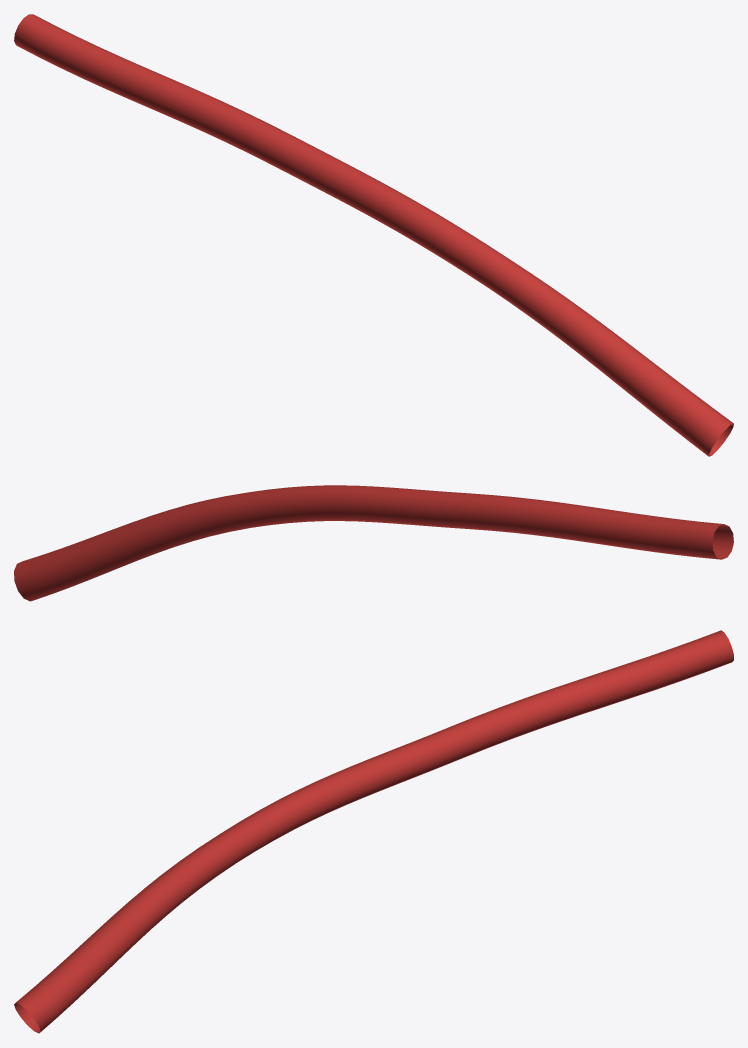
The picture shows the model from 3 angles, top to bottom: view 1: azimuth 30°, elevation 25°; view 2: azimuth 210°, elevation 25°; view 3: azimuth 270°, elevation 25°; orthographic projection. The views are drawn at different scales.
Parts seen in each view (by area): view 1: 右侧肱深动脉; view 2: 右侧肱深动脉; view 3: 右侧肱深动脉.
Boxes of the visible parts, <box> form: 右侧肱深动脉: <box>14,14,733,456</box>; 右侧肱深动脉: <box>14,485,733,601</box>; 右侧肱深动脉: <box>14,630,733,1033</box>.
Bounding box in the file's own units: 0.0518 × 0.0351 × 0.0928.
